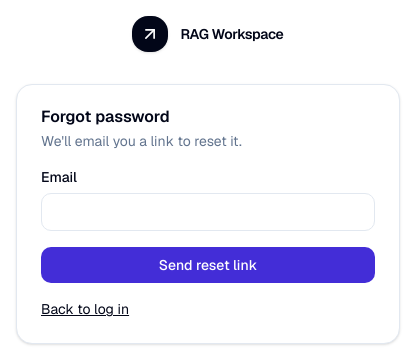
Scenario: ForgotPasswordPage › shows the backend's generic message after a successful submit
The width and height of the screenshot is (417, 362).
Type "user@example.com" into the field labelled "Email" at [208, 212], box [41,193,375,231]
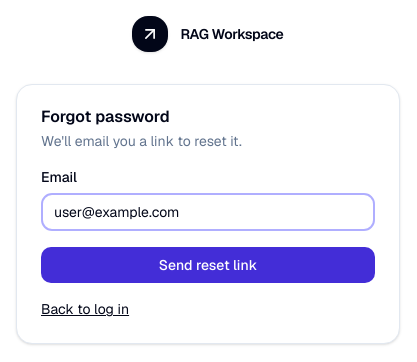
Click the button "Send reset link" at [208, 265], box [41,247,375,283]
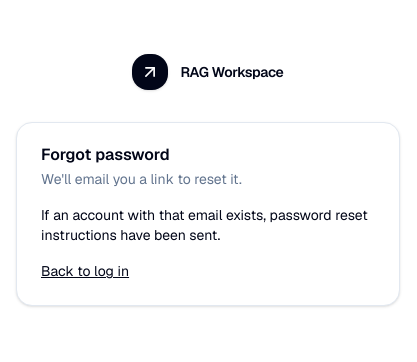
Now the text "password reset instructions have been sent" is shown, box [41,206,368,244]
